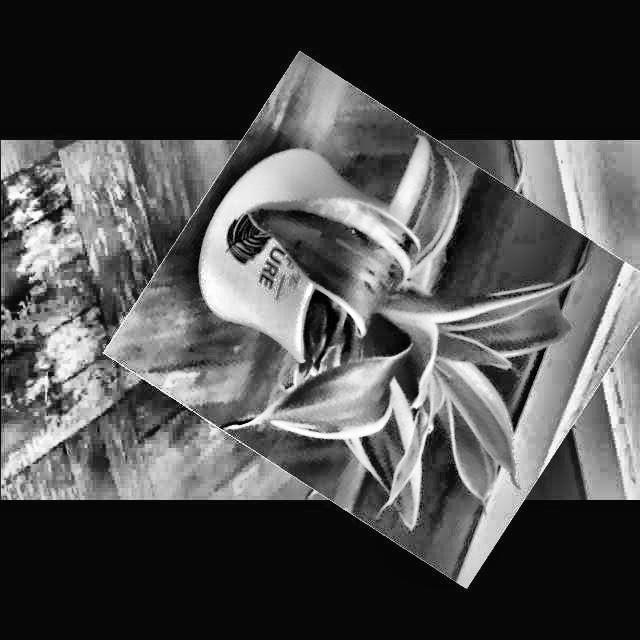plants: (134, 96, 630, 544)
